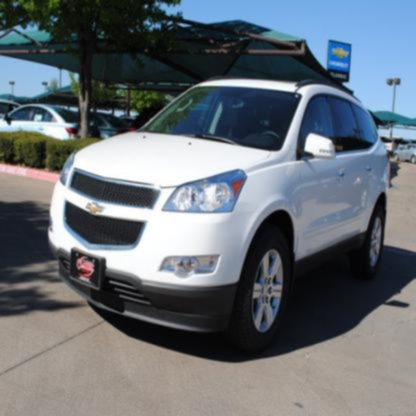Vehicle: (48, 69, 397, 354)
